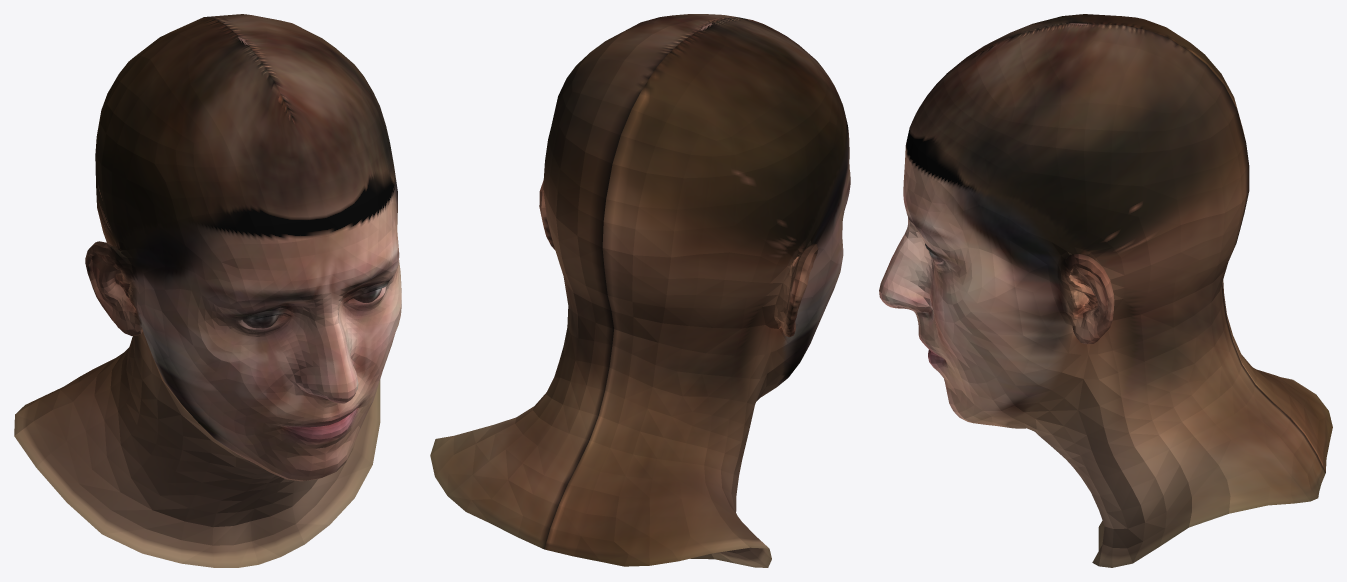
Rendered from face_video_frame0189.obj.
3 renders of one model, left to right at view 1: azimuth 30°, elevation 25°; view 2: azimuth 150°, elevation 25°; view 3: azimuth 270°, elevation 25°, orthographic. The views are drawn at different scales.
Bounding box in the file's own units: 0.2137 × 0.328 × 0.2599.
Materials: 1 (1 with a texture image).
